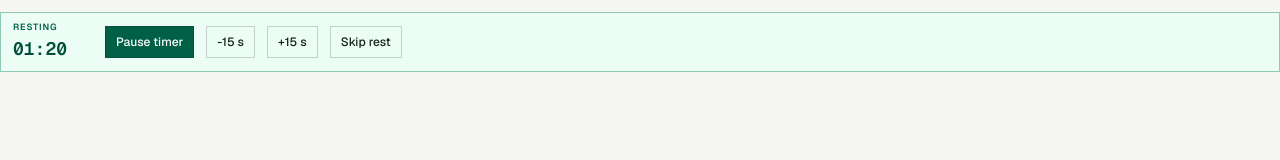
Test: RestTimer when the page refreshes › does not restart a paused timer when only the server time changes
Later steps or results of the test are not shown.
Click the button "Pause timer": (150, 42) [105, 26, 194, 58]
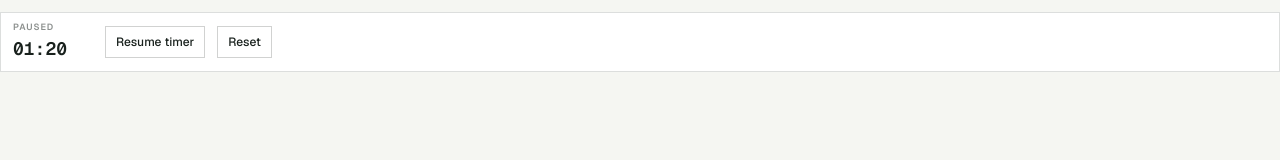
Result: the text "Paused" is shown at [13, 21, 54, 33]
